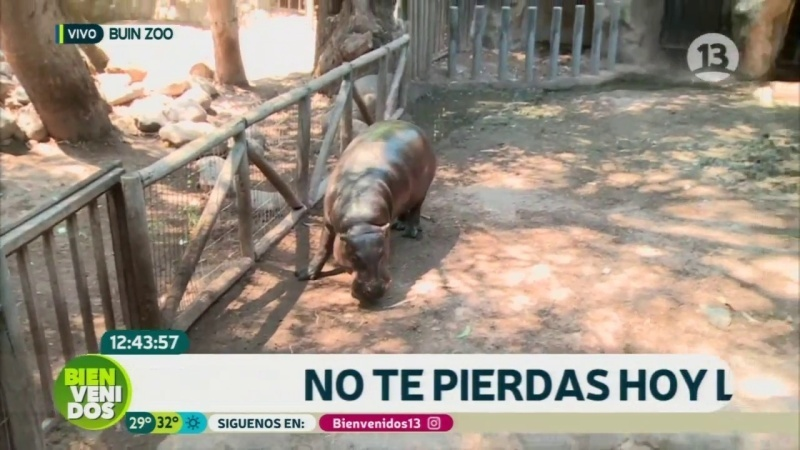hipopotamo: (314, 112, 454, 314)
